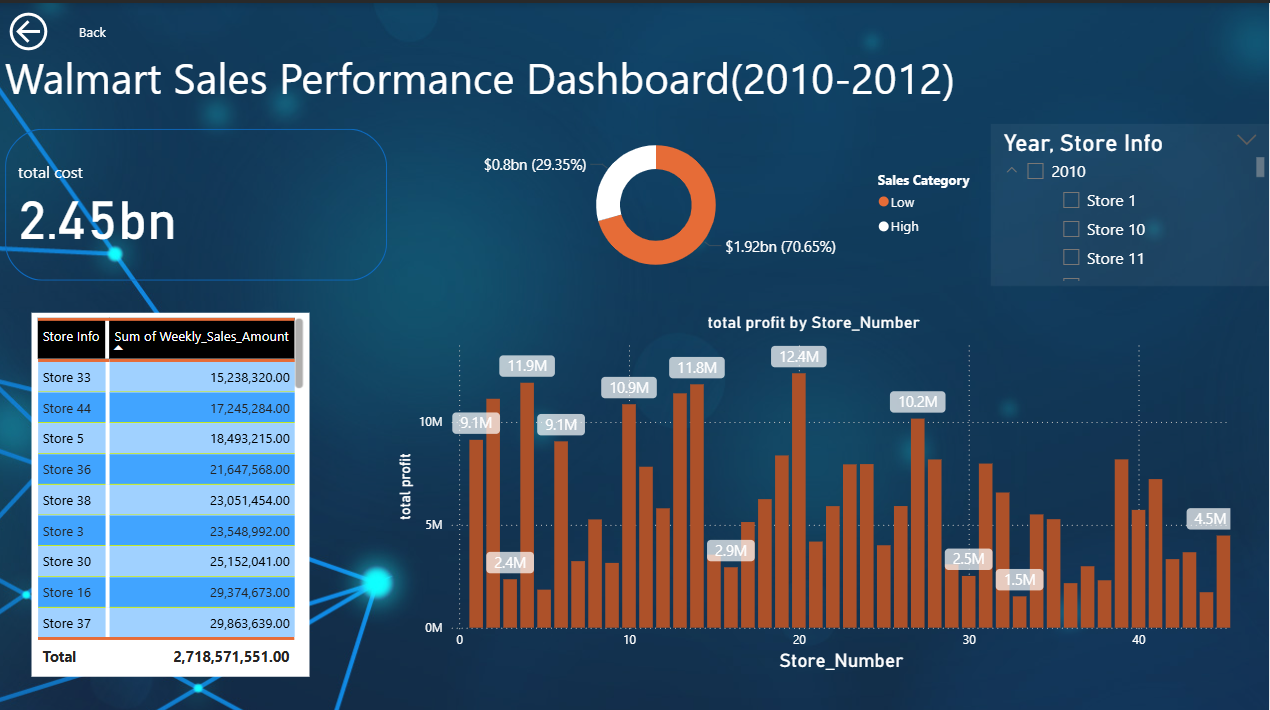

Layout of this report page (visuals, bound fields, positions):
{"tool":"powerbi","page":{"name":"Page 2","canvas":[1280,720],"ordinal":1},"visuals":[{"type":"donutChart","fields":{"Y":["Walmart_sales_analysis.total sales"],"Category":["Walmart_sales_analysis.Sales Category"]},"box":[432.2,122,566.7,163.4],"z":0},{"type":"tableEx","fields":{"Values":["Walmart_sales_analysis.Store Info","Sum(Walmart_sales_analysis.Weekly_Sales_Amount)"]},"box":[31,312.3,279.2,366.1],"z":1000},{"type":"cardVisual","fields":{"Data":["Walmart_sales_analysis.total cost"]},"box":[0,122,395,163.4],"z":2000},{"type":"lineStackedColumnComboChart","fields":{"Category":["Walmart_sales_analysis.Store_Number"],"Y":["Walmart_sales_analysis.total profit"]},"box":[395,312.3,850,366.1],"z":3000},{"type":"slicer","fields":{"Values":["DateTable.Year","Walmart_sales_analysis.Store Info"]},"box":[998.9,122,281.3,163.4],"z":4000},{"type":"textbox","box":[0,41.4,998.9,80.7],"z":5000},{"type":"actionButton","box":[0,0,198.5,57.9],"z":6000}]}

Visuals, with their boxes on the page's 1280x720 design canvas (x1, y1, x2, y2). These are canvas units, not pixel positions in the 1270x710 screenshot, which may show the page scaled, cropped or inside an application window:
donutChart - Walmart_sales_analysis.total sales x Walmart_sales_analysis.Sales Category: 432, 122, 999, 285
tableEx - Walmart_sales_analysis.Store Info x Sum(Walmart_sales_analysis.Weekly_Sales_Amount): 31, 312, 310, 678
cardVisual - Walmart_sales_analysis.total cost: 0, 122, 395, 285
lineStackedColumnComboChart - Walmart_sales_analysis.Store_Number x Walmart_sales_analysis.total profit: 395, 312, 1245, 678
slicer - DateTable.Year x Walmart_sales_analysis.Store Info: 999, 122, 1280, 285
textbox: 0, 41, 999, 122
actionButton: 0, 0, 198, 58
